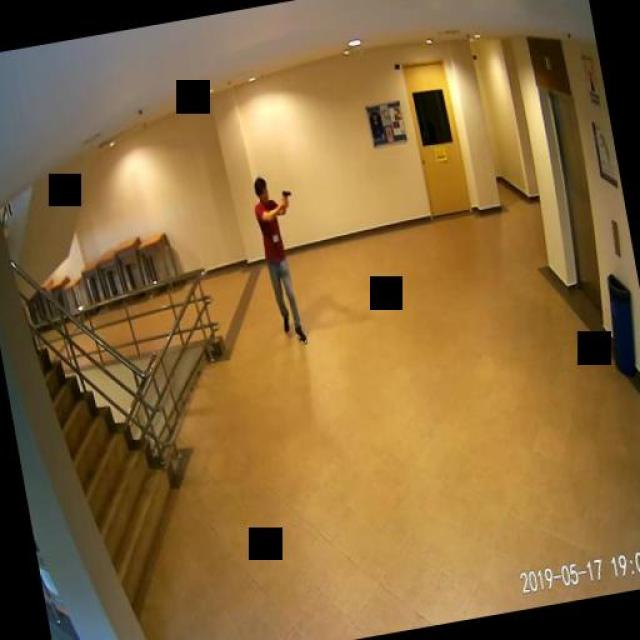gun: (279, 185, 290, 204)
